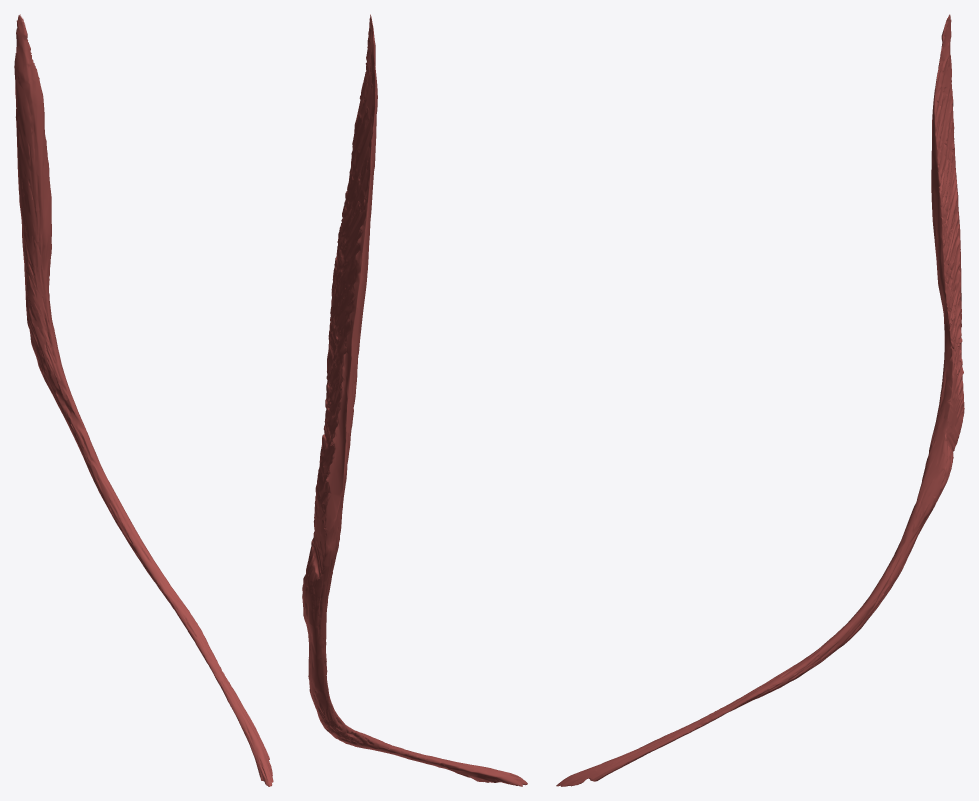
File: FMA22546.glb
3 renders of one model, left to right at view 1: azimuth 30°, elevation 25°; view 2: azimuth 150°, elevation 25°; view 3: azimuth 270°, elevation 25°, orthographic. The views are drawn at different scales.
Parts seen in each view (by area): view 1: FMA22546; view 2: FMA22546; view 3: FMA22546.
Part boxes in pixels (box(x1,y1,x2,y2)): FMA22546: box(14, 14, 273, 786); FMA22546: box(302, 14, 527, 786); FMA22546: box(556, 14, 964, 786).
Size of the model in its own units: 0.0414 by 0.2718 by 0.1374.
